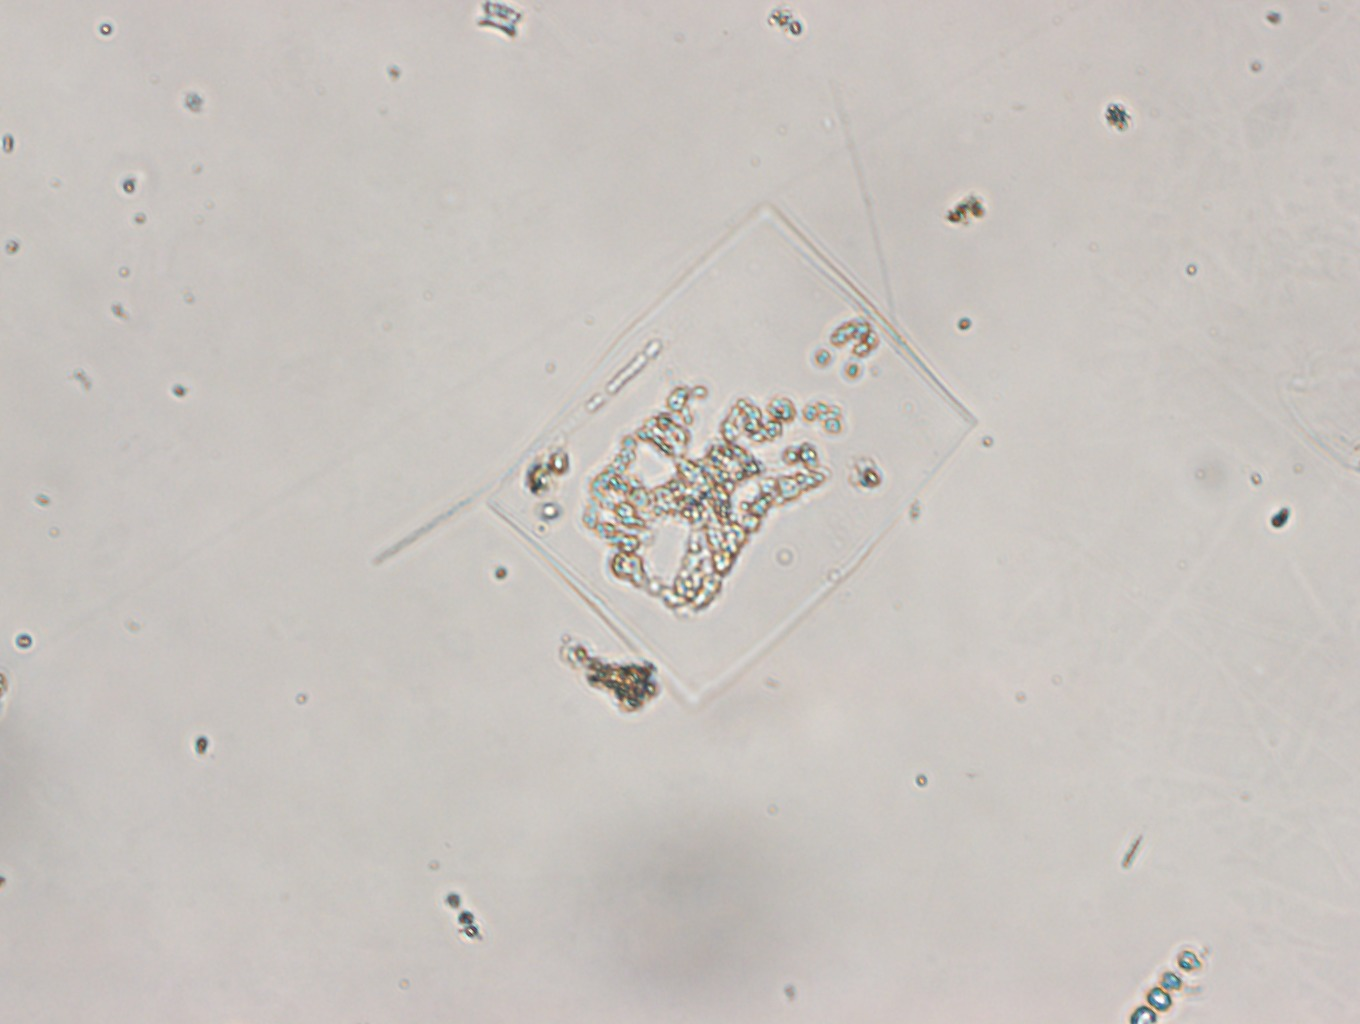helicotheca: (482, 207, 982, 707)
